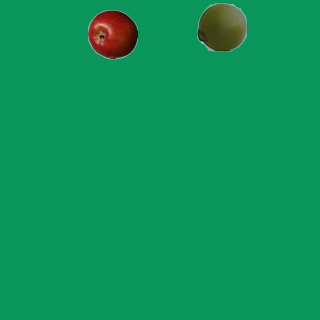Apple Braeburn: (87, 9, 137, 59)
Grape White 4: (196, 1, 246, 51)
